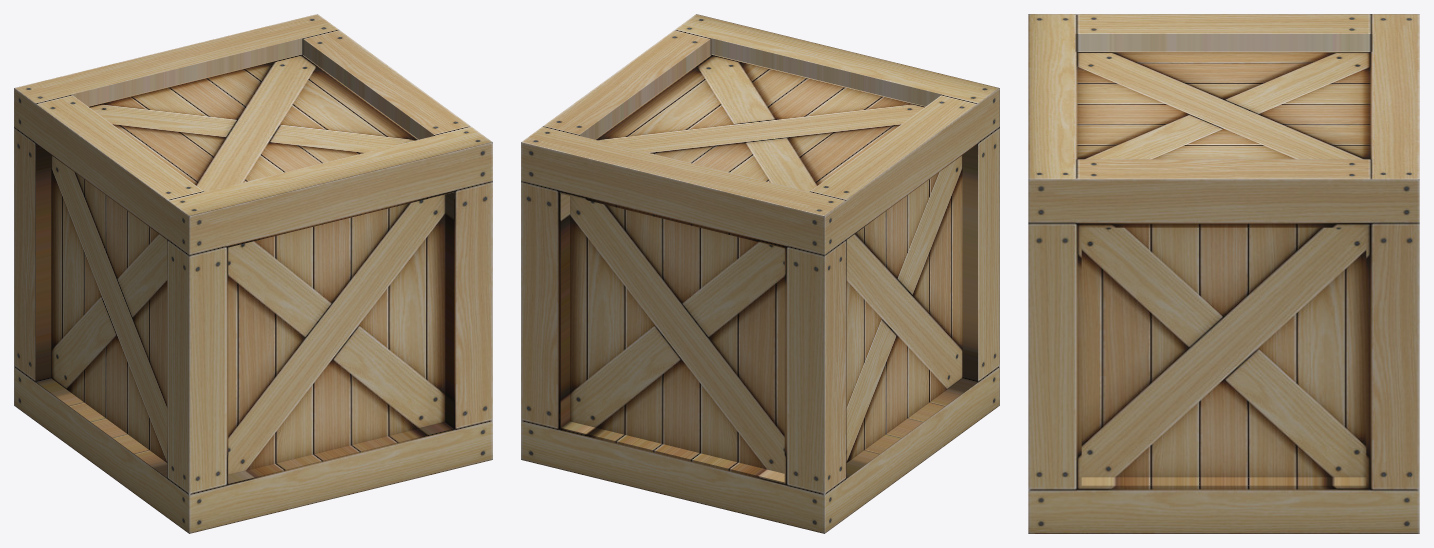
The model's file is caja.fbx.
The picture shows the model from 3 angles, left to right: view 1: azimuth 30°, elevation 25°; view 2: azimuth 150°, elevation 25°; view 3: azimuth 270°, elevation 25°; orthographic projection. The views are drawn at different scales.
Visible parts, largest first — view 1: Caja; view 2: Caja; view 3: Caja.
Part boxes in pixels (left/top/right/bottom): Caja: left=14, top=14, right=492, bottom=533; Caja: left=521, top=14, right=999, bottom=533; Caja: left=1028, top=14, right=1419, bottom=533.
Bounding box in the file's own units: 200 × 200 × 200.
1 material, 1 textured.
